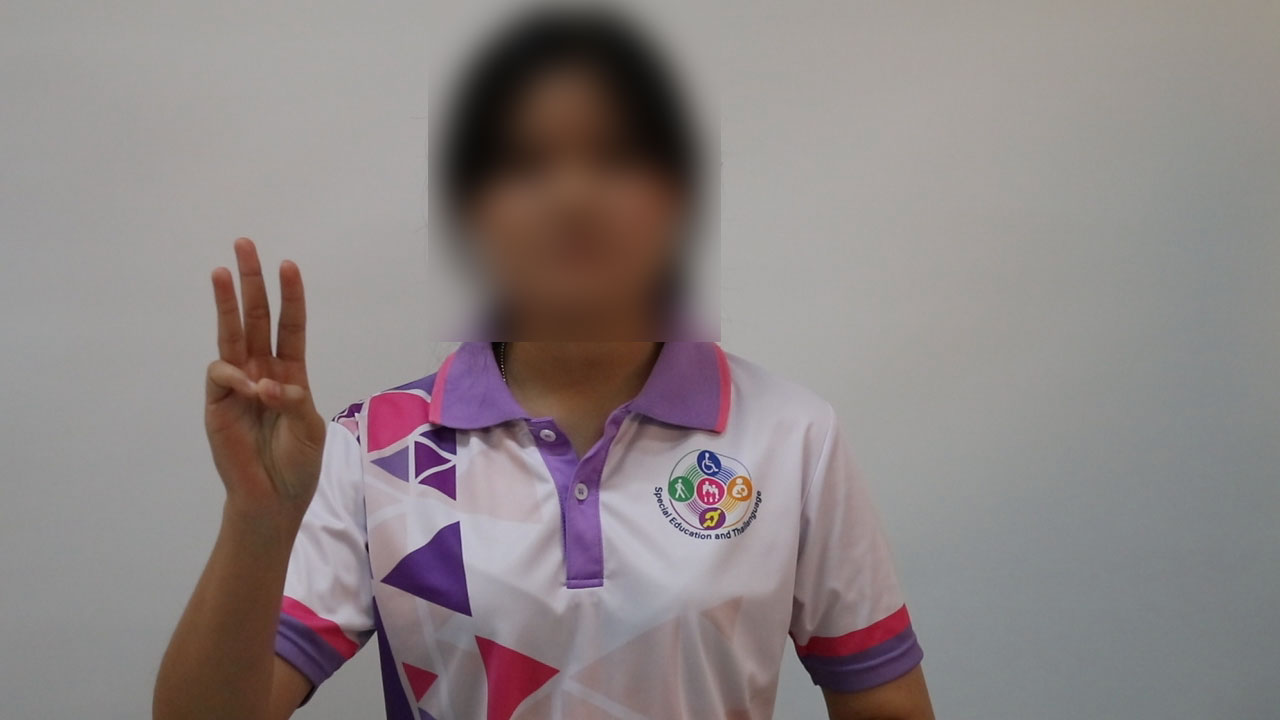wor: (192, 227, 336, 553)
